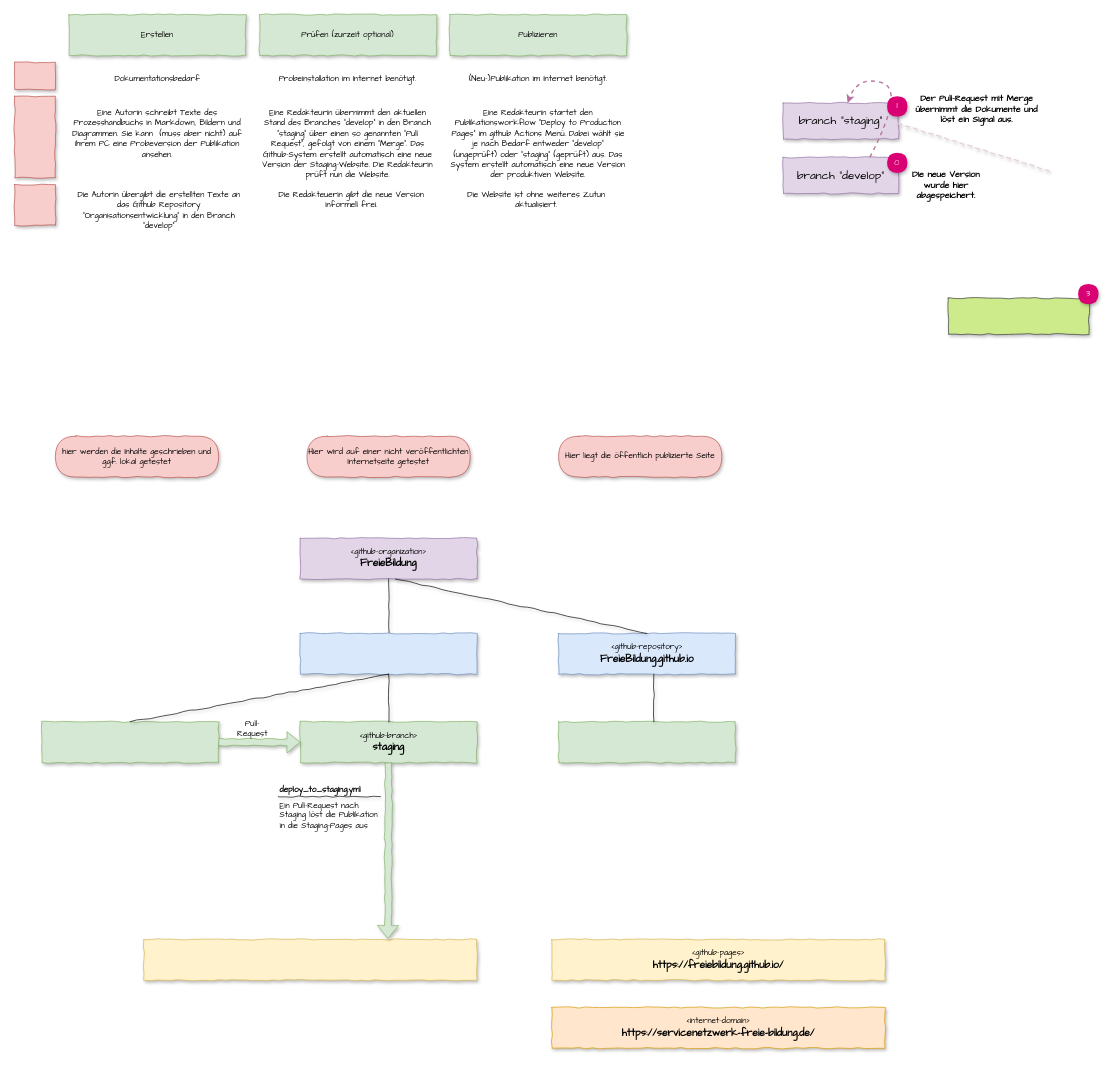
The diagram is 1115 pixels wide and 1065 high, and some of its shapes have lost their labels. The shapes that lost their labels are listed below. From the top down, each one's centre as x and y in pixels, then its label:
At (35,76): "Auslöser".
At (35,138): "Aktivität".
At (35,205): "Abschluss".
At (1019,317): "deploy_to_staging".
At (389,654): "<github-repository> Organisationsentwicklung".
At (130,742): "<github-branch> develop".
At (647,742): "<github-branch> main".
At (310,960): "<github-pages> https://freiebildung.github.io/Organisationsentwicklung/".
